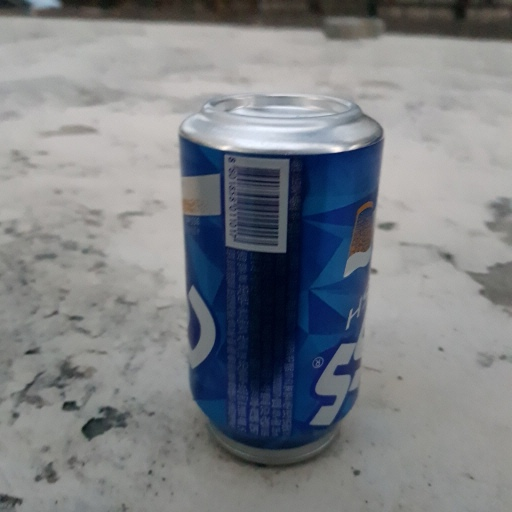Metal_0: (172, 89, 389, 468)
